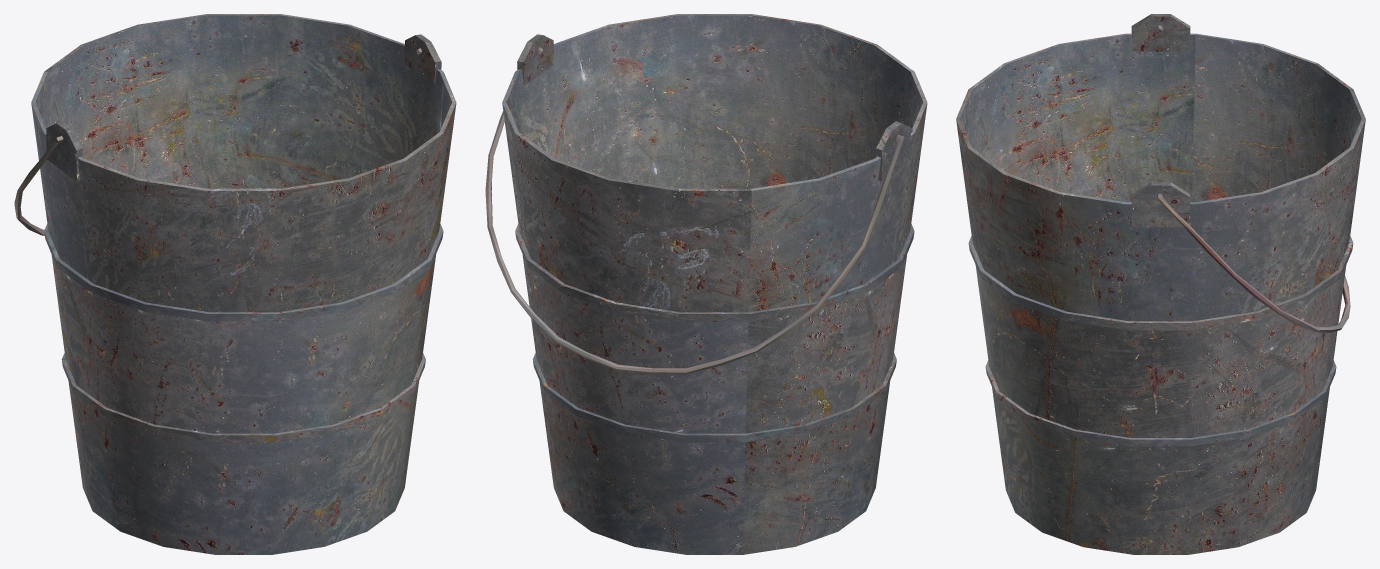
The model's file is RustedBucket.fbx.
3 renders of one model, left to right at view 1: azimuth 30°, elevation 25°; view 2: azimuth 150°, elevation 25°; view 3: azimuth 270°, elevation 25°, orthographic. The views are drawn at different scales.
Parts seen in each view (by area): view 1: Cylinder; view 2: Cylinder; view 3: Cylinder.
Part boxes in pixels (<box>): Cylinder: <box>14,14,456,554</box>; Cylinder: <box>485,14,927,554</box>; Cylinder: <box>956,14,1365,554</box>.
Bounding box in the file's own units: 103 × 105 × 100.
